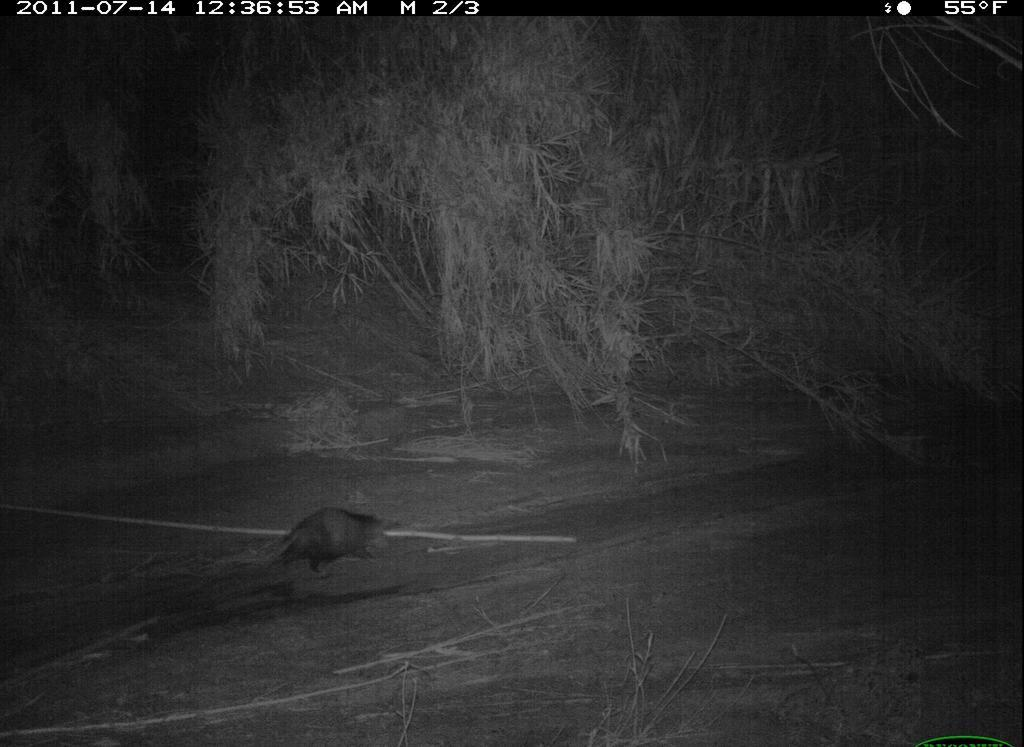opossum: (242, 486, 411, 587)
